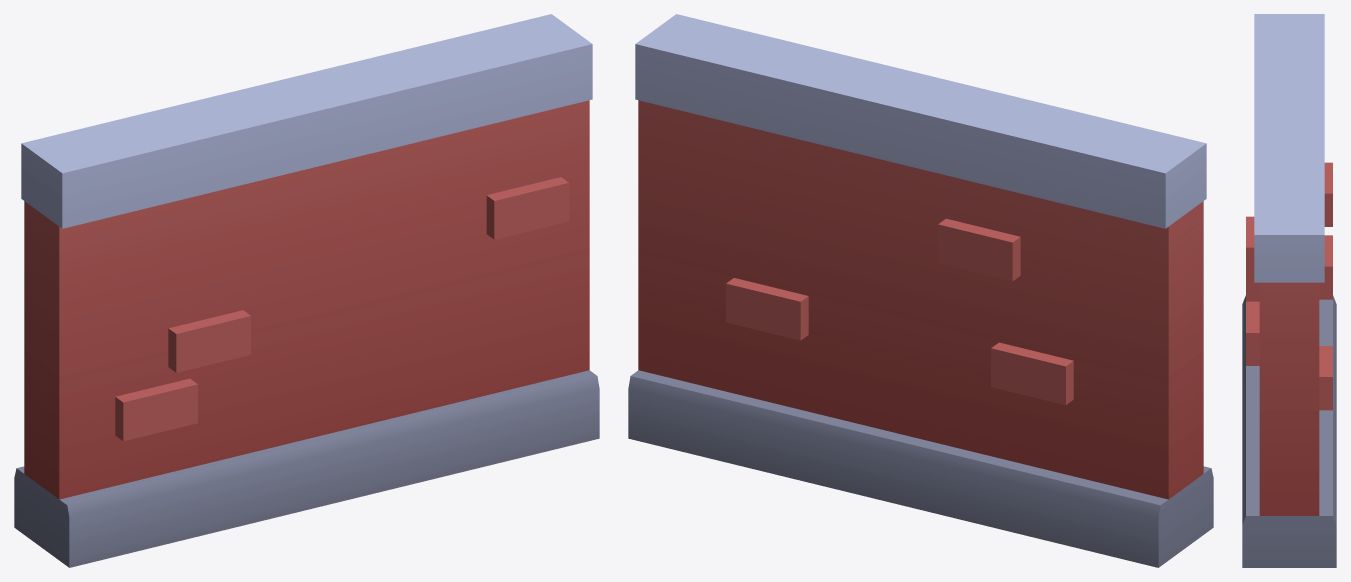
File: brick-wall.glb
3 renders of one model, left to right at view 1: azimuth 30°, elevation 25°; view 2: azimuth 150°, elevation 25°; view 3: azimuth 270°, elevation 25°, orthographic. The views are drawn at different scales.
Visible parts, largest first — view 1: Asset3DLoader.sceneRoot; view 2: Asset3DLoader.sceneRoot; view 3: Asset3DLoader.sceneRoot.
Part boxes in pixels (bbox=[...]): Asset3DLoader.sceneRoot: bbox=[14, 14, 599, 567]; Asset3DLoader.sceneRoot: bbox=[628, 14, 1213, 567]; Asset3DLoader.sceneRoot: bbox=[1242, 14, 1336, 567].
Bounding box in the file's own units: 1 × 0.7019 × 0.18.
Materials: 1 (1 with a texture image).
